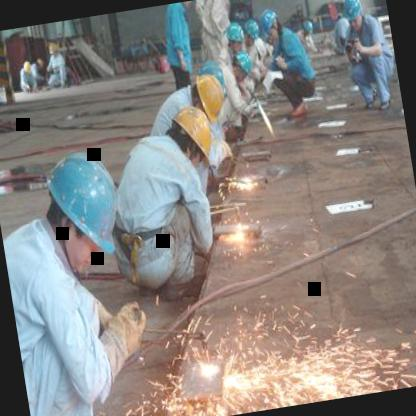helmet: (34, 139, 134, 278), (152, 93, 226, 182), (187, 66, 233, 129), (256, 6, 286, 50), (222, 18, 250, 56), (229, 46, 256, 84), (340, 0, 368, 34), (240, 15, 262, 46)
